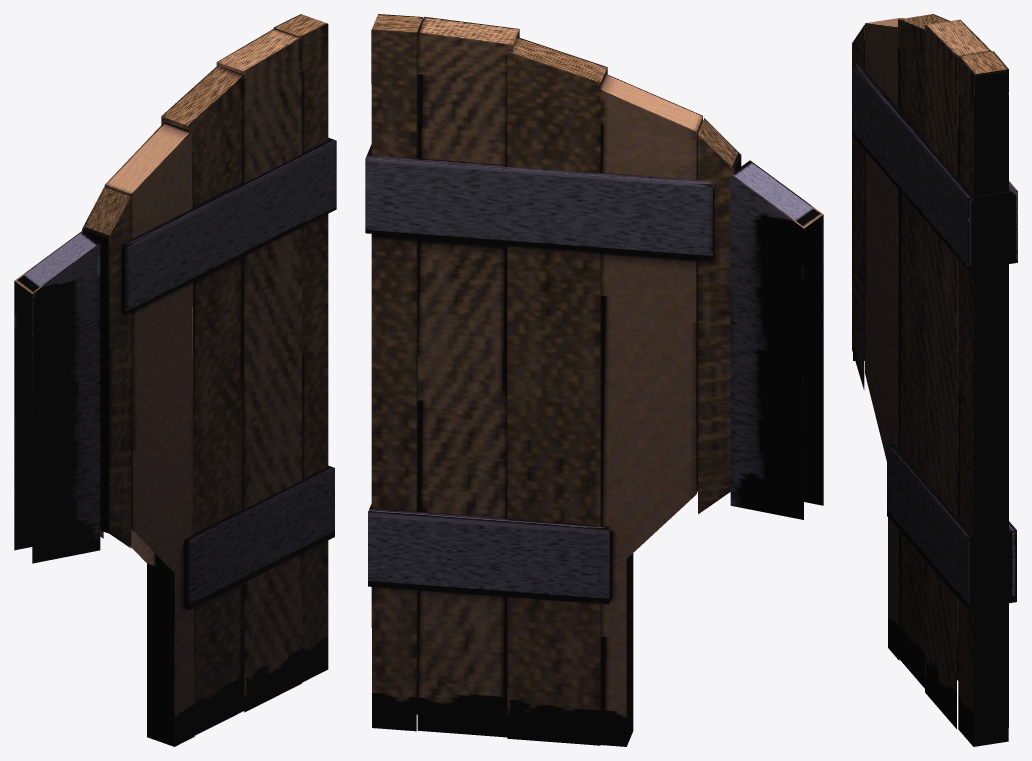
Rendered from DoorSide2F2.obj.
The picture shows the model from 3 angles, left to right: view 1: azimuth 30°, elevation 25°; view 2: azimuth 150°, elevation 25°; view 3: azimuth 270°, elevation 25°; orthographic projection. The views are drawn at different scales.
Visible parts, largest first — view 1: DoorSide2F2_Cube.028; view 2: DoorSide2F2_Cube.028; view 3: DoorSide2F2_Cube.028.
Part boxes in pixels (left/top/right/bottom): DoorSide2F2_Cube.028: left=14, top=14, right=336, bottom=746; DoorSide2F2_Cube.028: left=365, top=14, right=823, bottom=746; DoorSide2F2_Cube.028: left=852, top=14, right=1017, bottom=746.
Bounding box in the file's own units: 104 × 179 × 39.89.
1 material, 1 textured.
